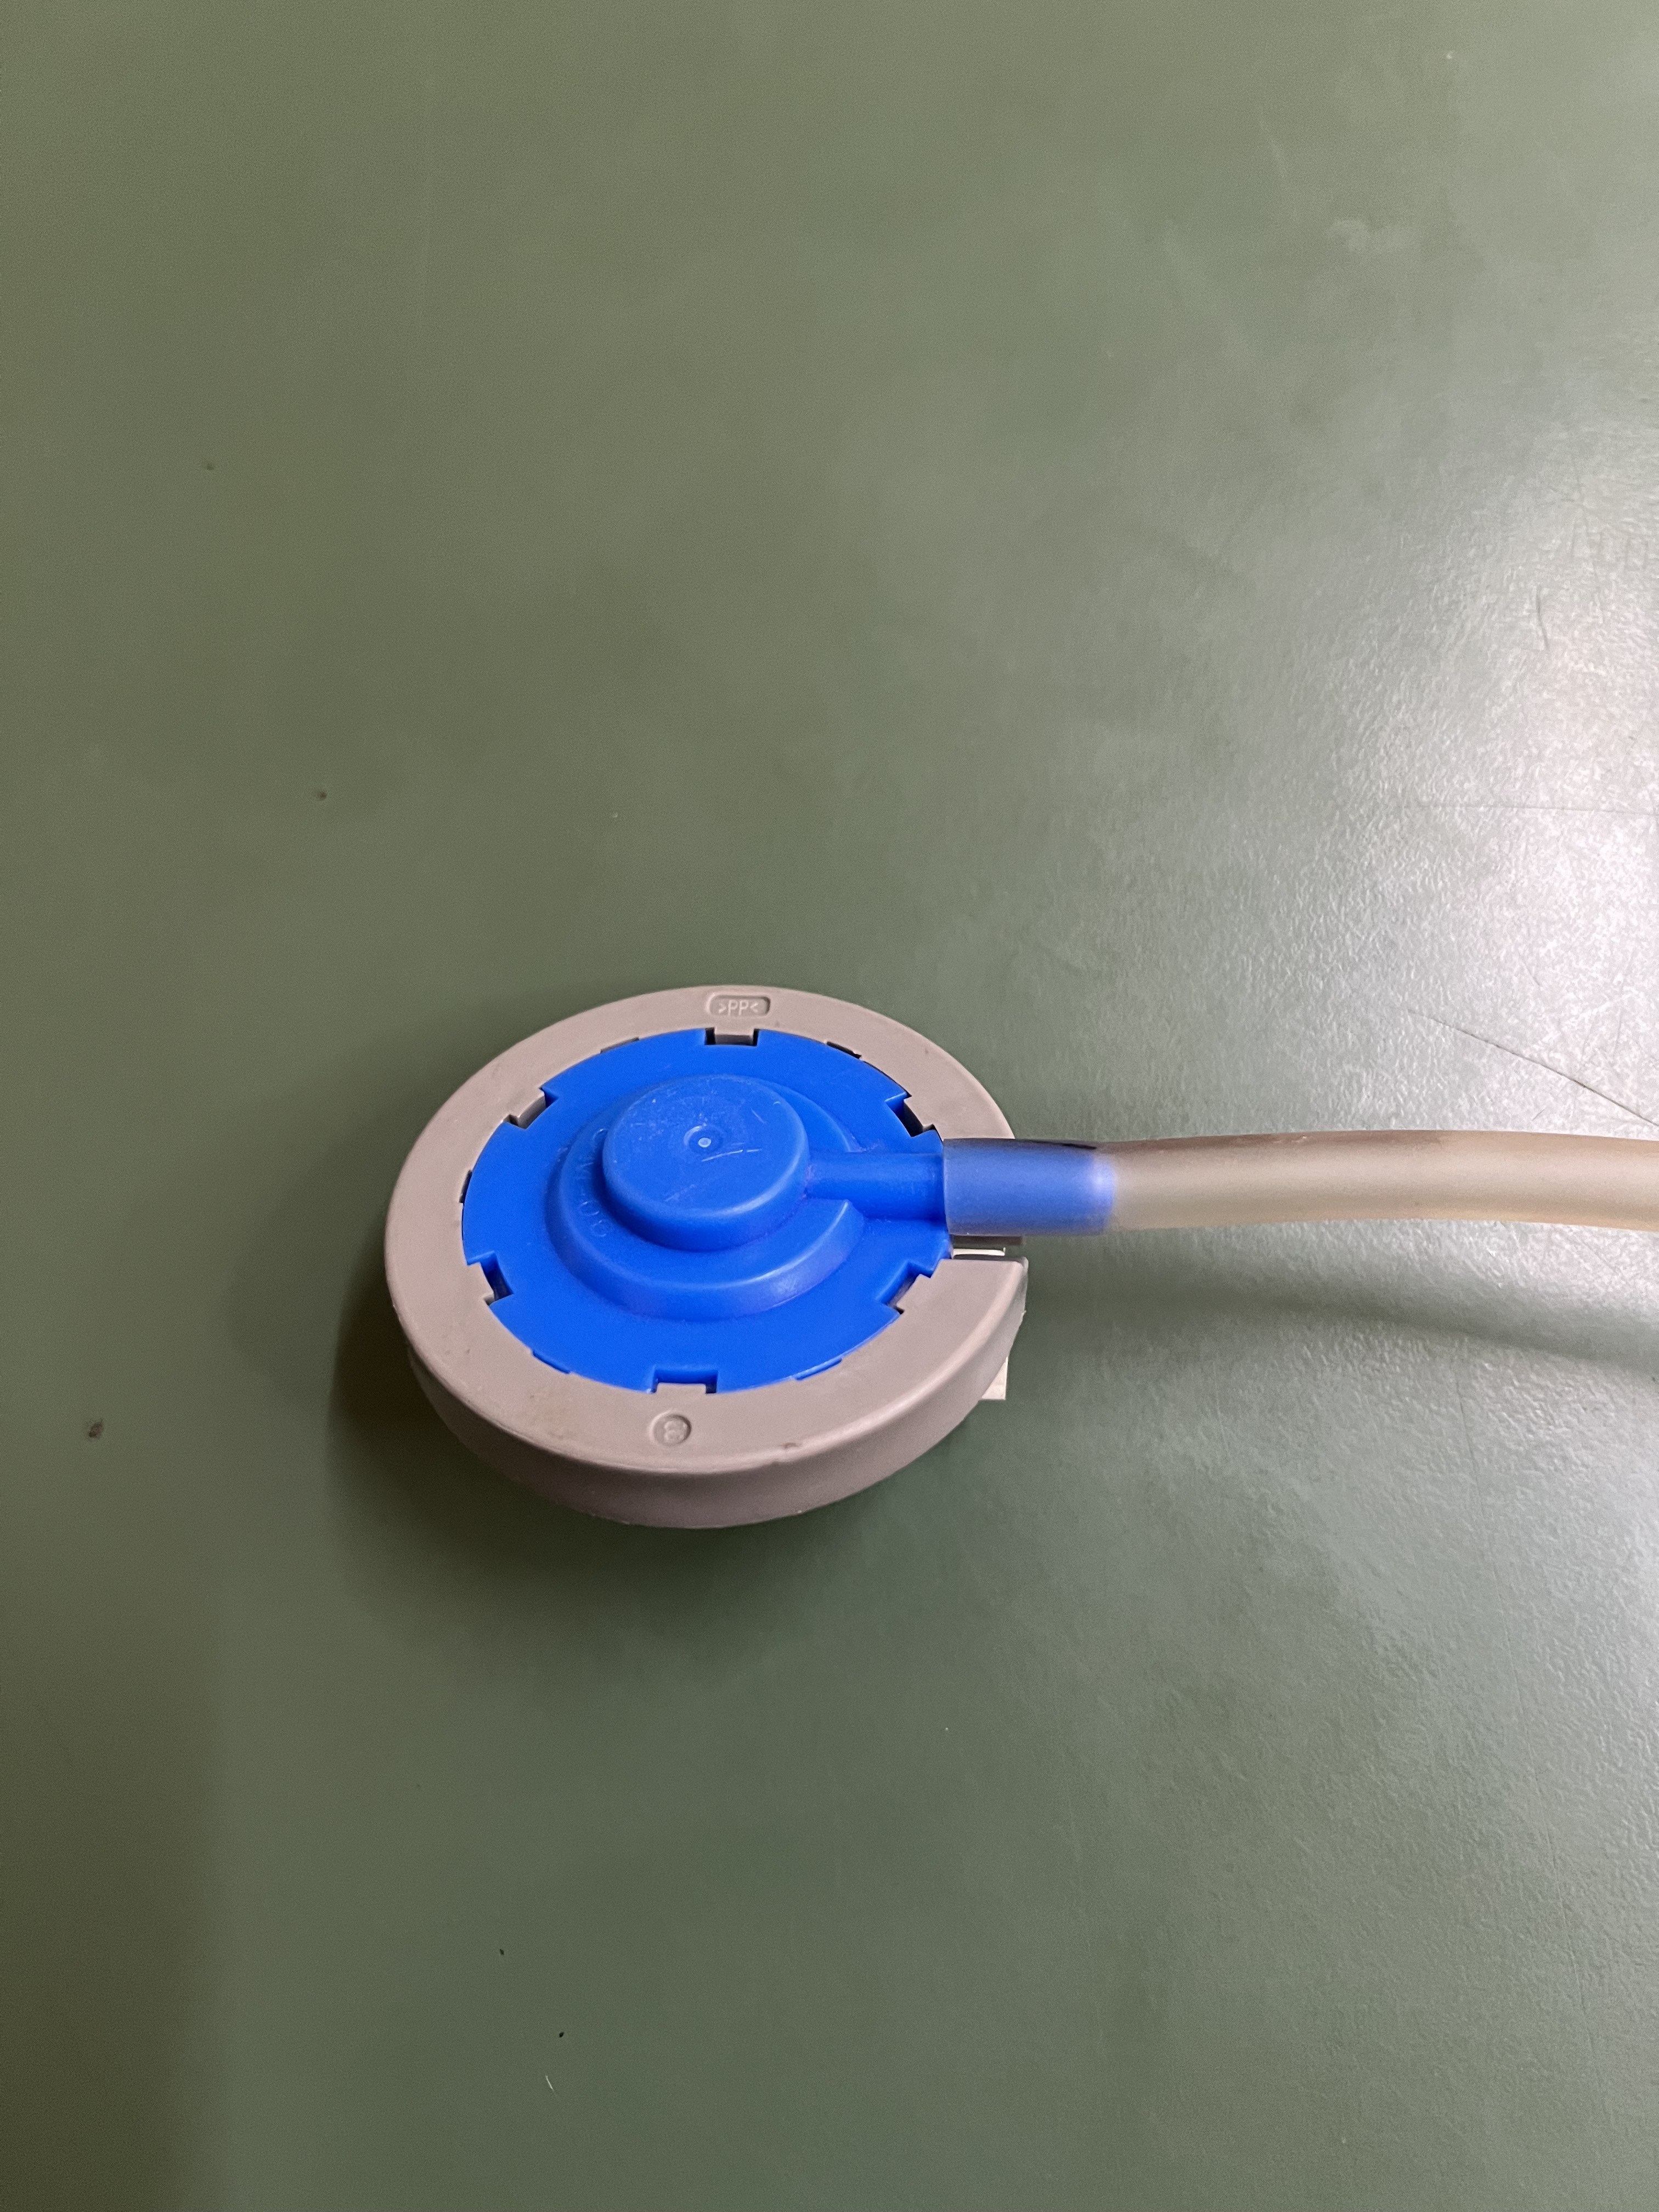pressure_sensor: (331, 949, 1206, 1639)
